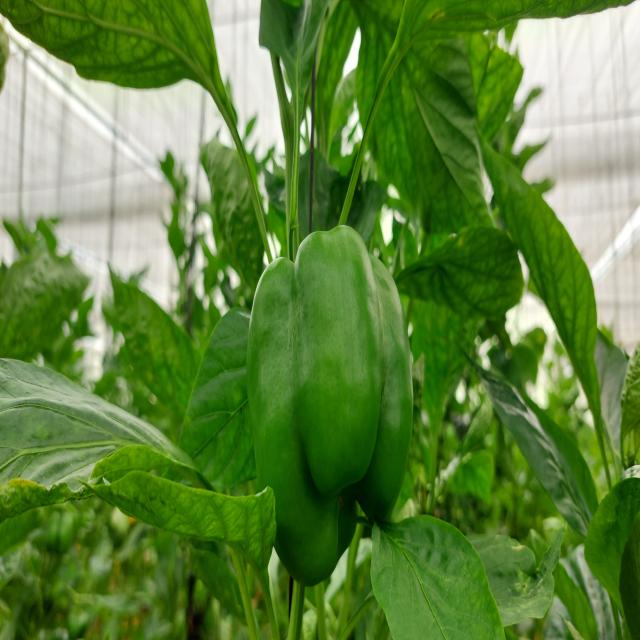Green--Not-ready-to-harvest: (248, 235, 415, 589)
